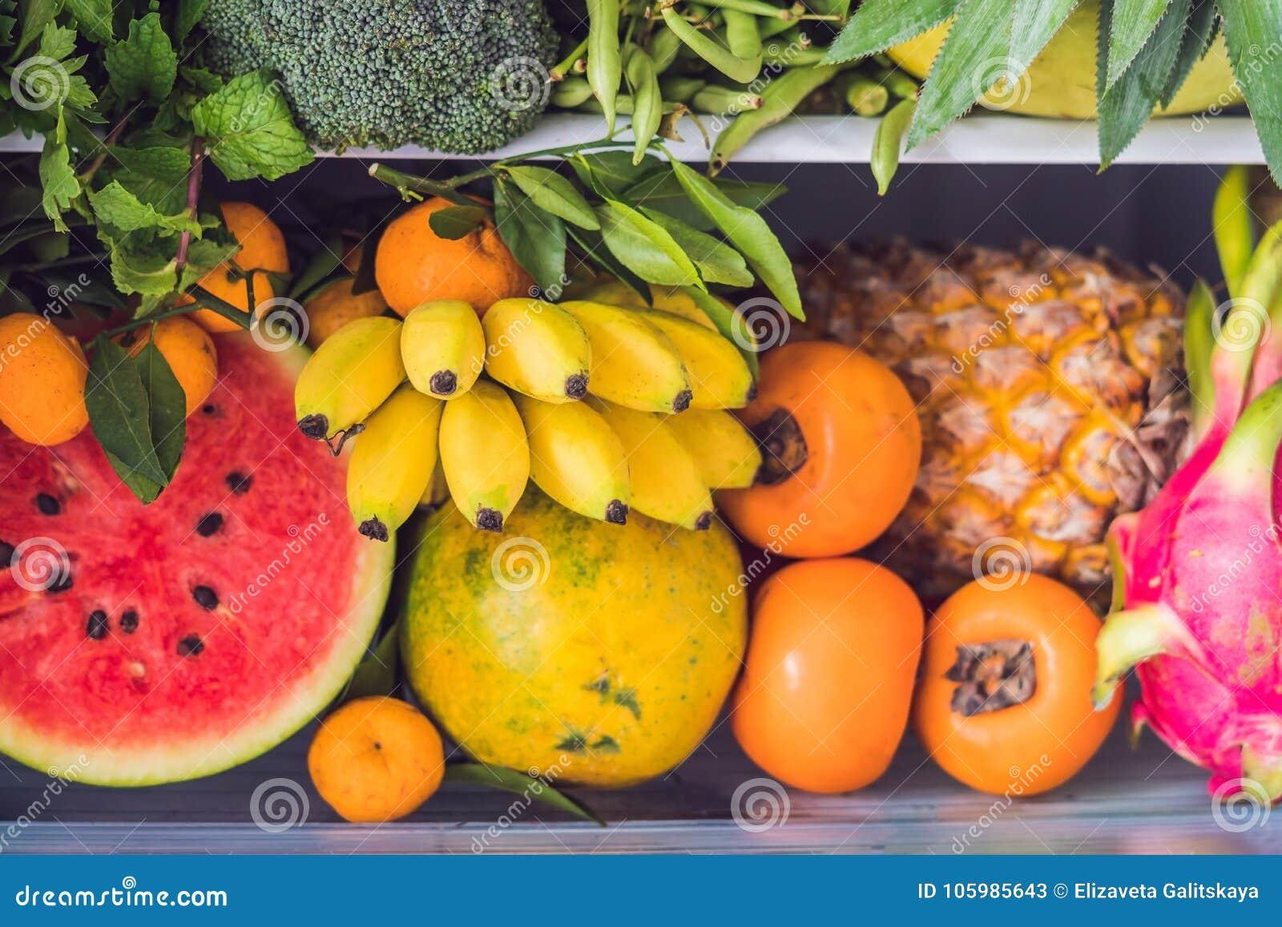banana: (292, 203, 771, 540)
broccoli: (170, 0, 557, 163)
pineapple: (837, 239, 1244, 626)
watermelon: (0, 326, 390, 770)
